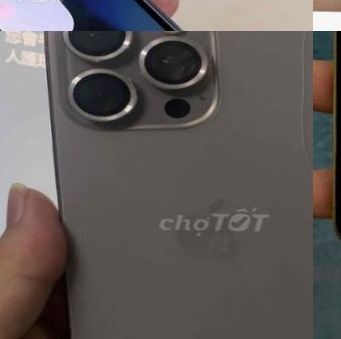physical_damage: (295, 162, 313, 225), (289, 76, 313, 121), (290, 118, 313, 163), (287, 43, 313, 77), (284, 31, 313, 46)
